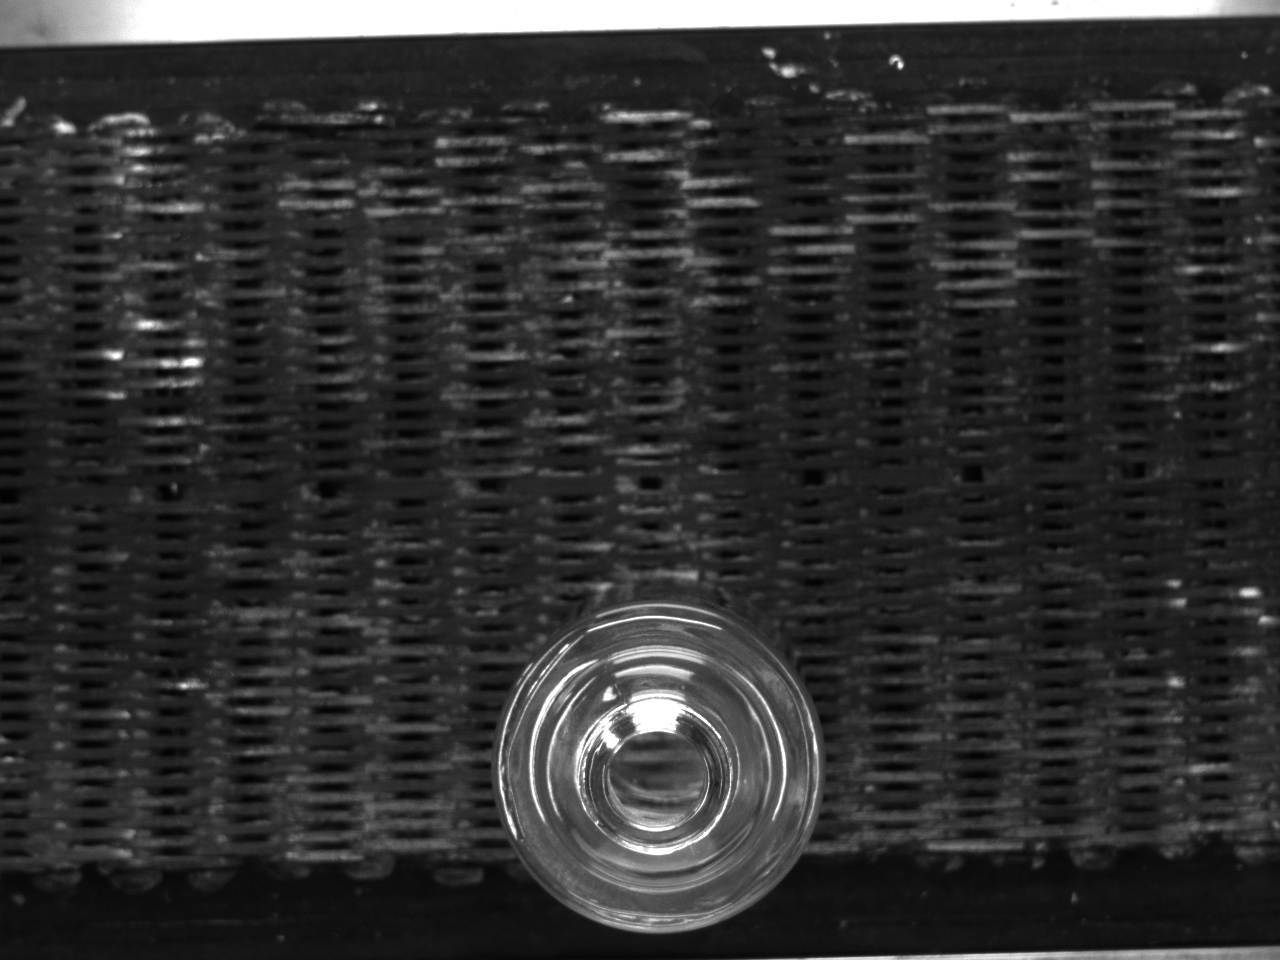bottleneck: (580, 700, 733, 854)
